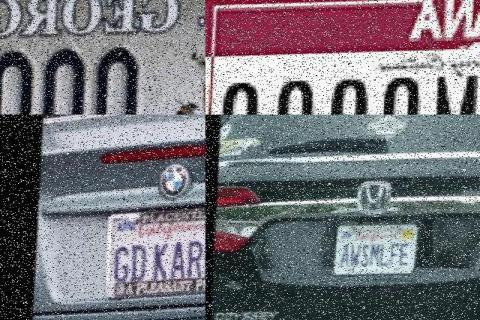LicensePlate: (215, 64, 480, 114), (0, 43, 169, 115), (105, 210, 205, 302), (336, 222, 421, 280)
